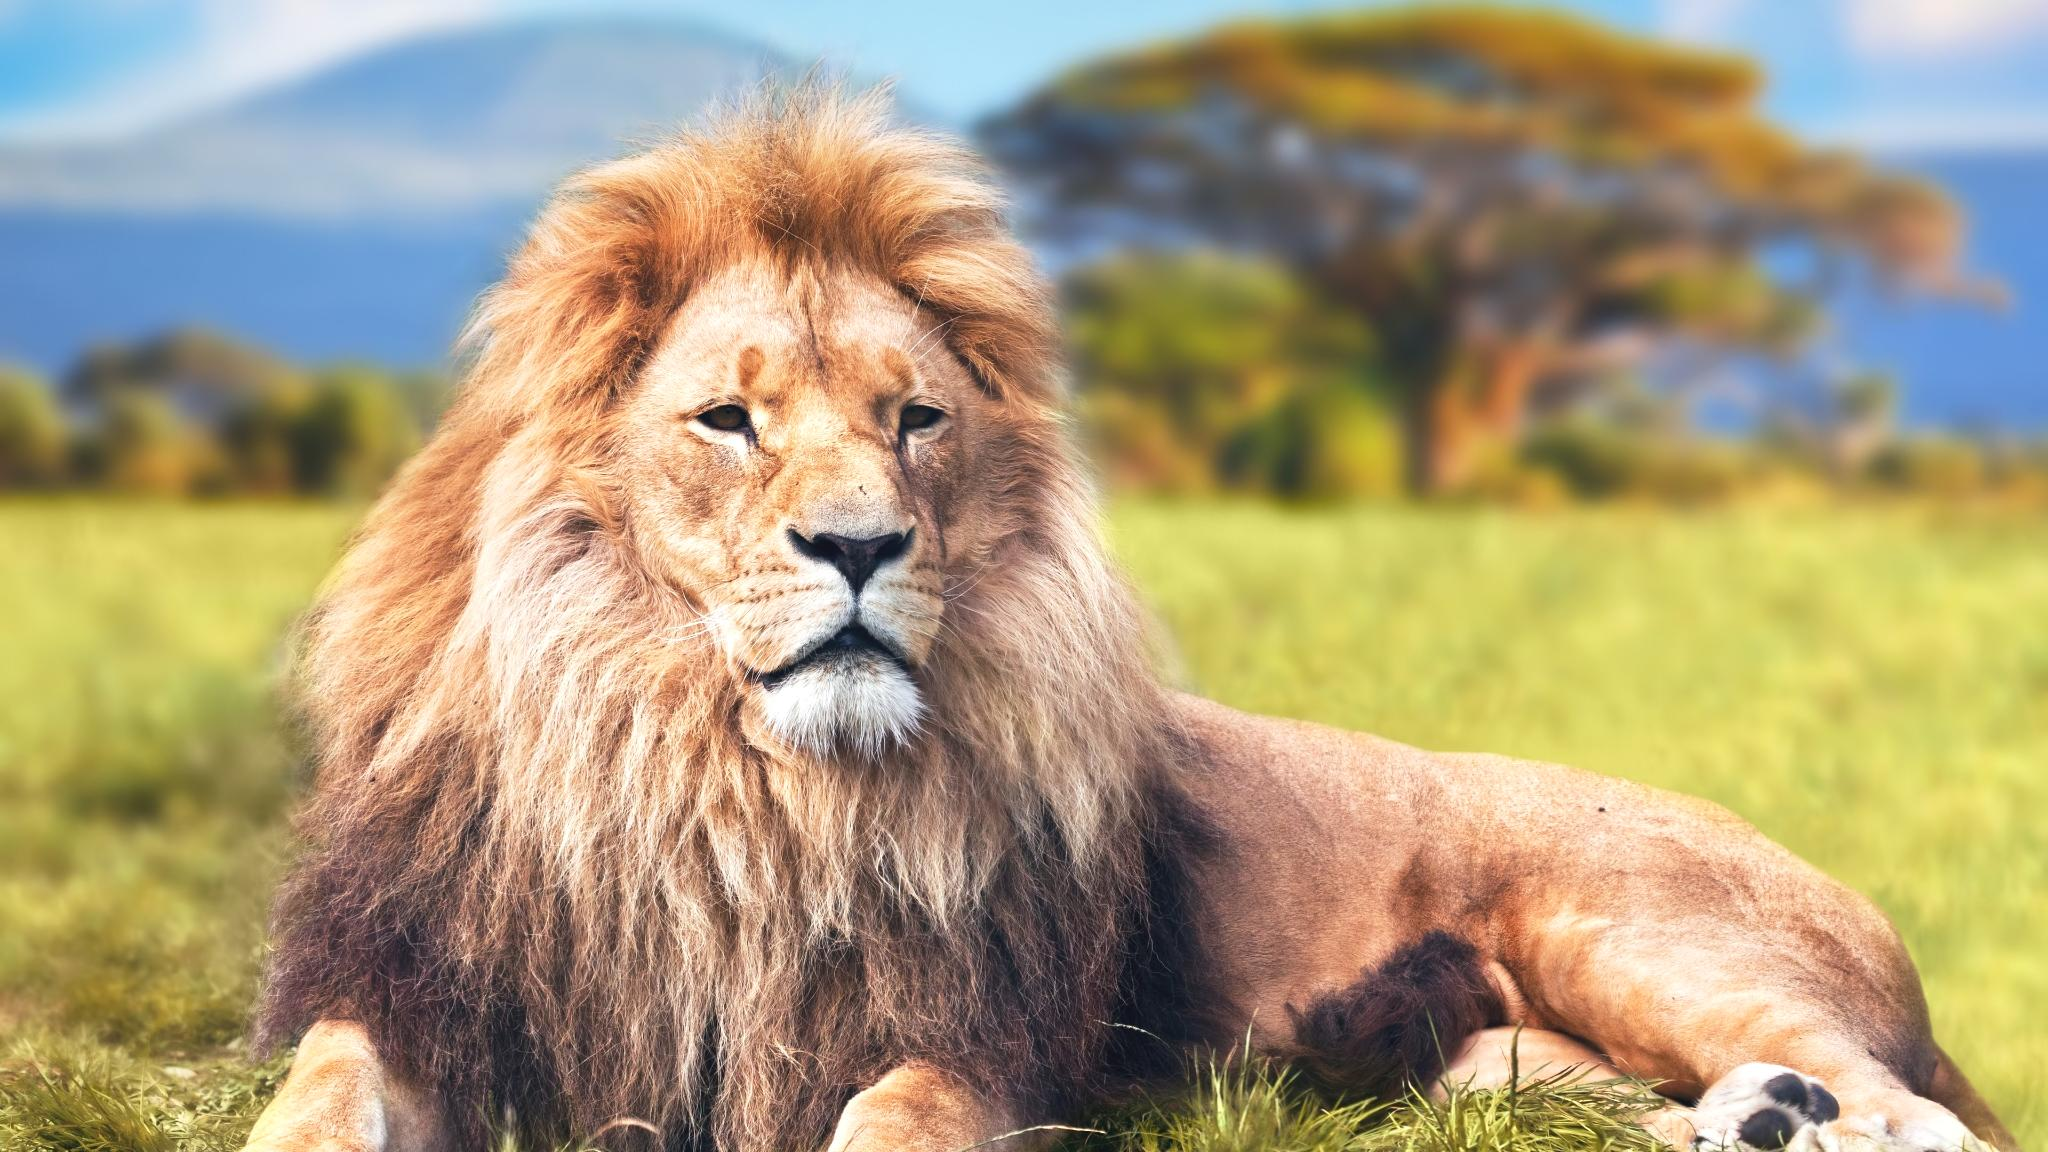lions: (0, 1, 1952, 1152)
